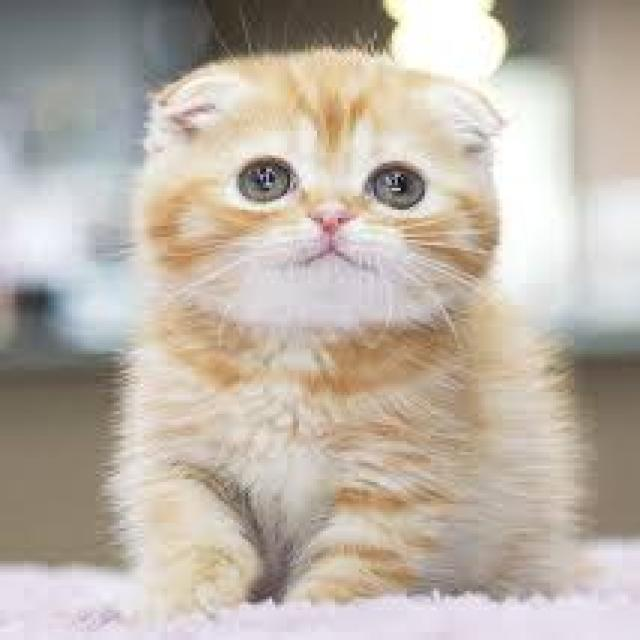cat-face: (72, 29, 547, 391)
